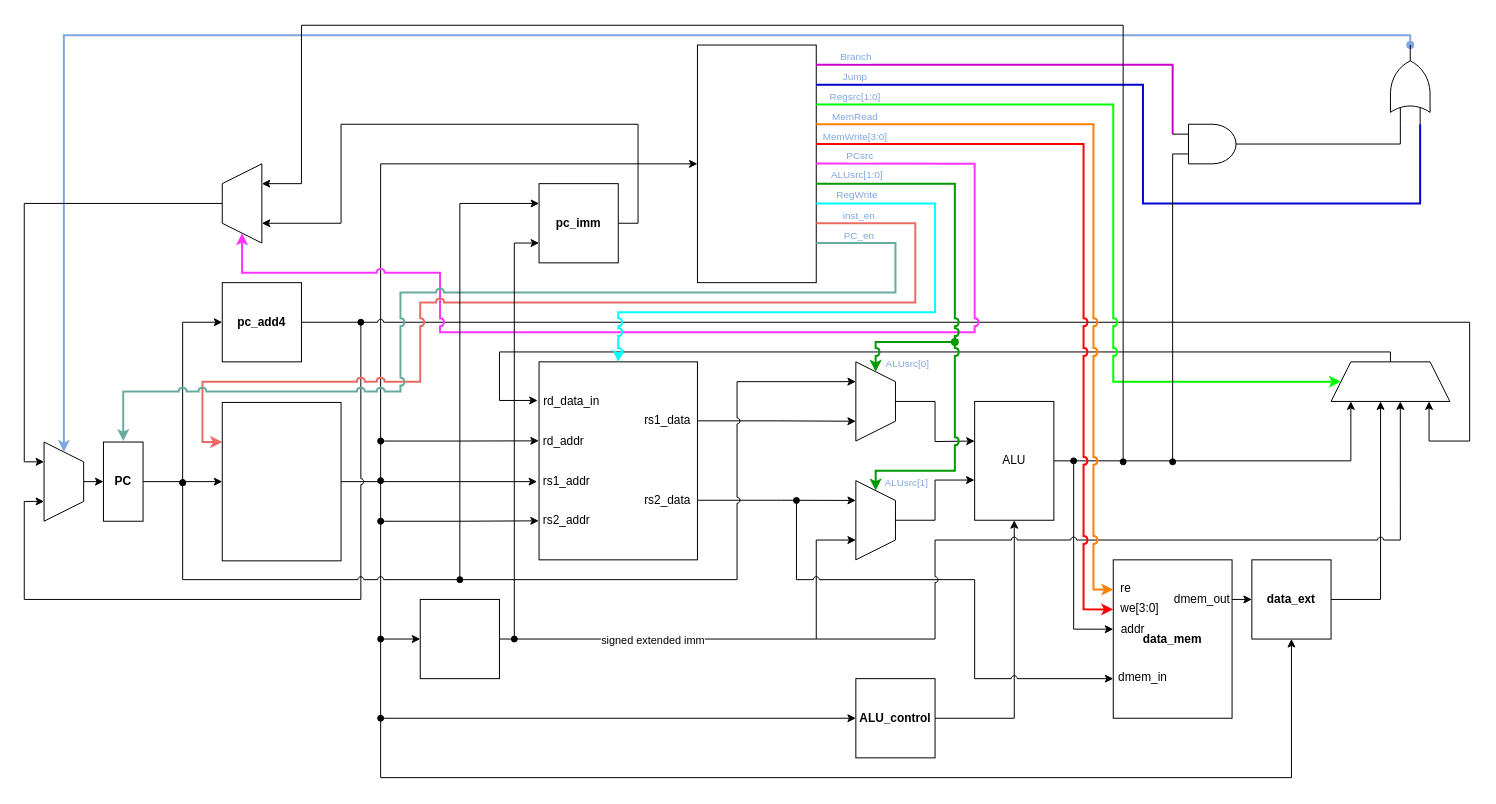
This 1496x804 diagram has some shape labels left out. The shapes that lost their labels are listed below. From the top down, each one's box as (x1, y1, x2, y2) in pixels, then its label:
(696, 44, 816, 283): Control_unit
(538, 361, 697, 560): regfile
(221, 401, 341, 561): instr_mem
(419, 598, 499, 679): Imm_gen
